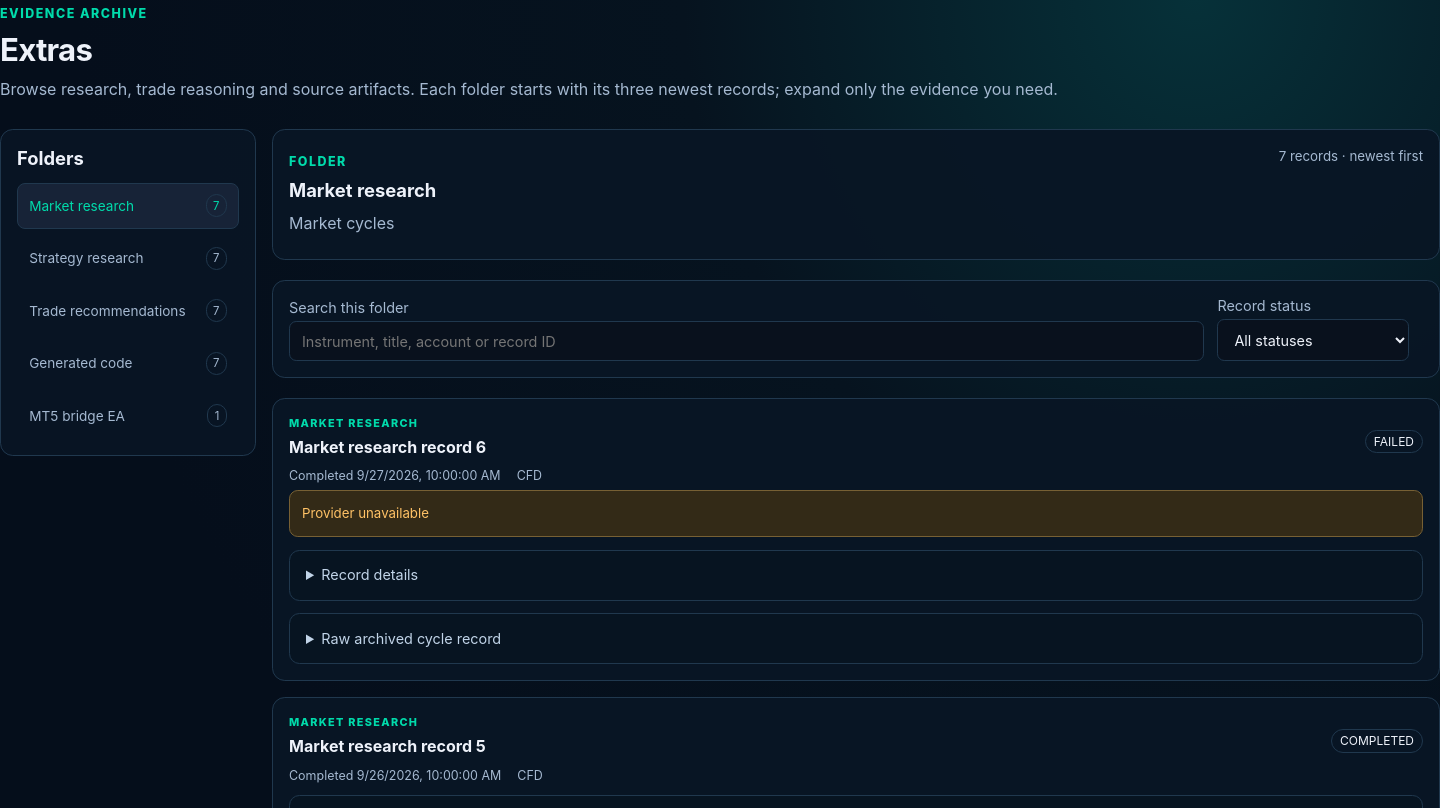
Scenario: filters the full folder, keeps failure reasons visible and distinguishes no matches
Expected: the heading "Market research record 6" is shown, [289,436,486,459]
Expected: the text "Provider unavailable" is shown, [289,490,1423,537]
Type "EURUSD" into the search field labelled "Search this folder" at (746, 341), box [289,321,1204,361]
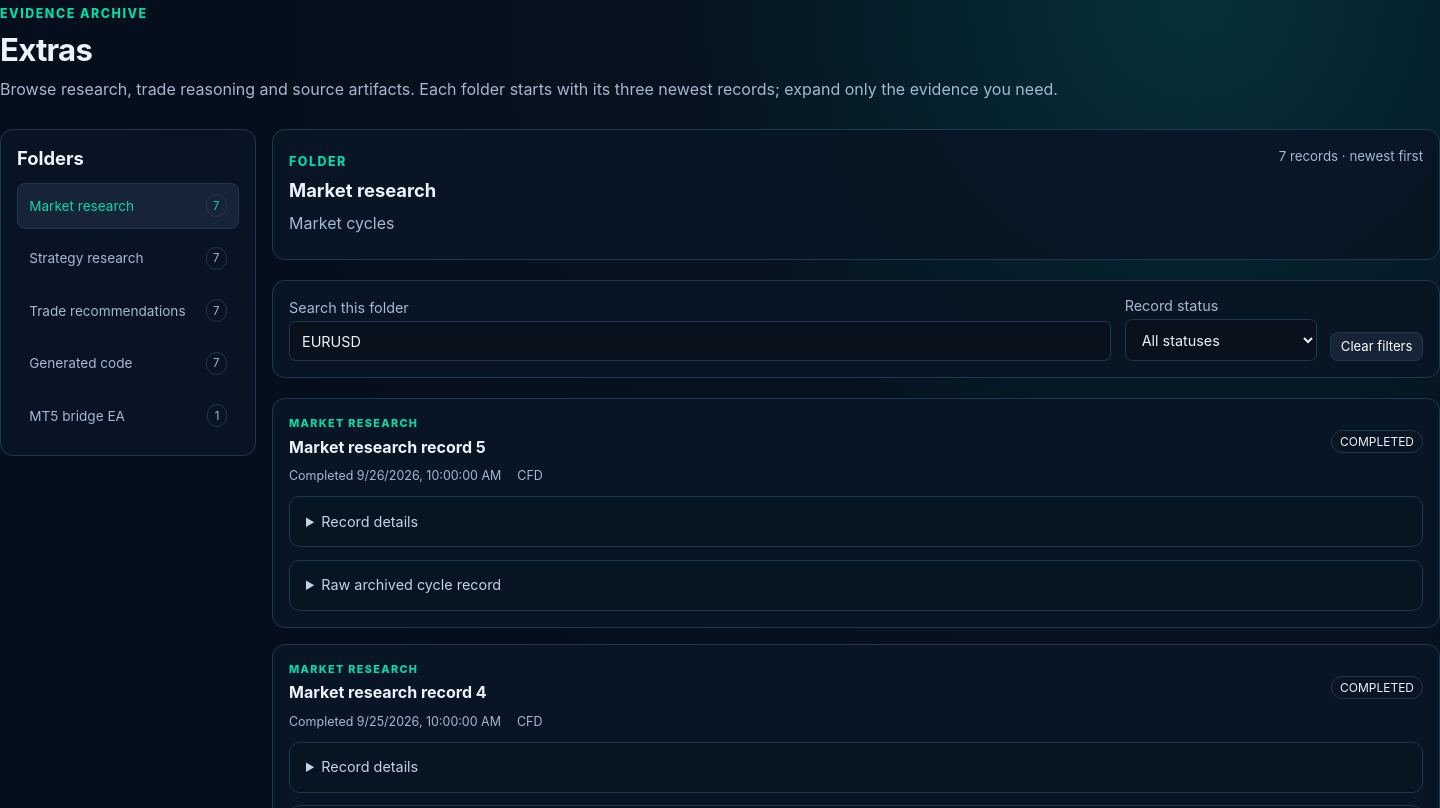
Result: the heading "Market research record 6" is gone
Replace the text in the search field with "XAUUSD" at (700, 341), box [289,321,1111,361]
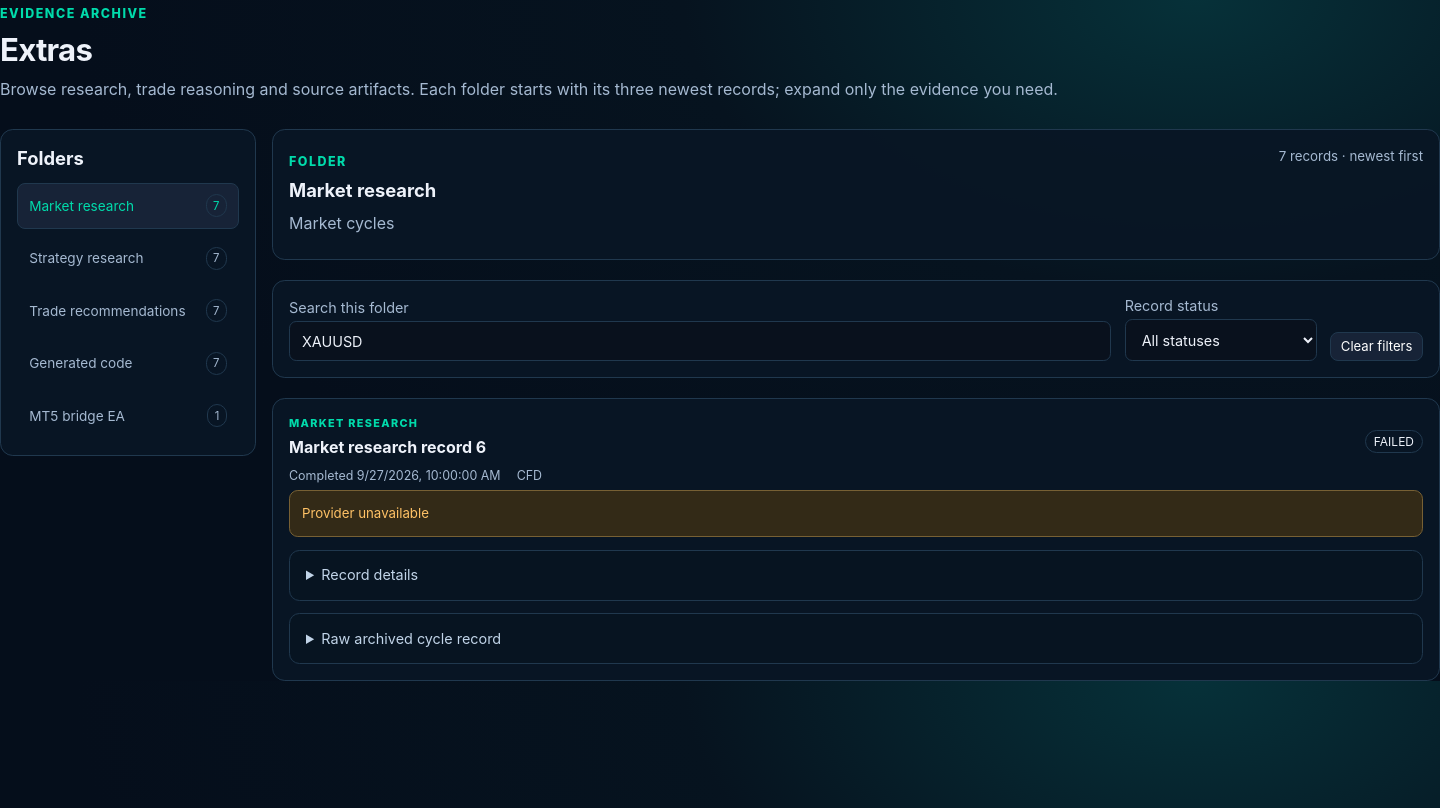
Result: the heading "Market research record 6" is shown at [289,436,486,459]
Select "COMPLETED" in the dropdown labelled "Record status" at (1221, 340), box [1125,319,1317,361]
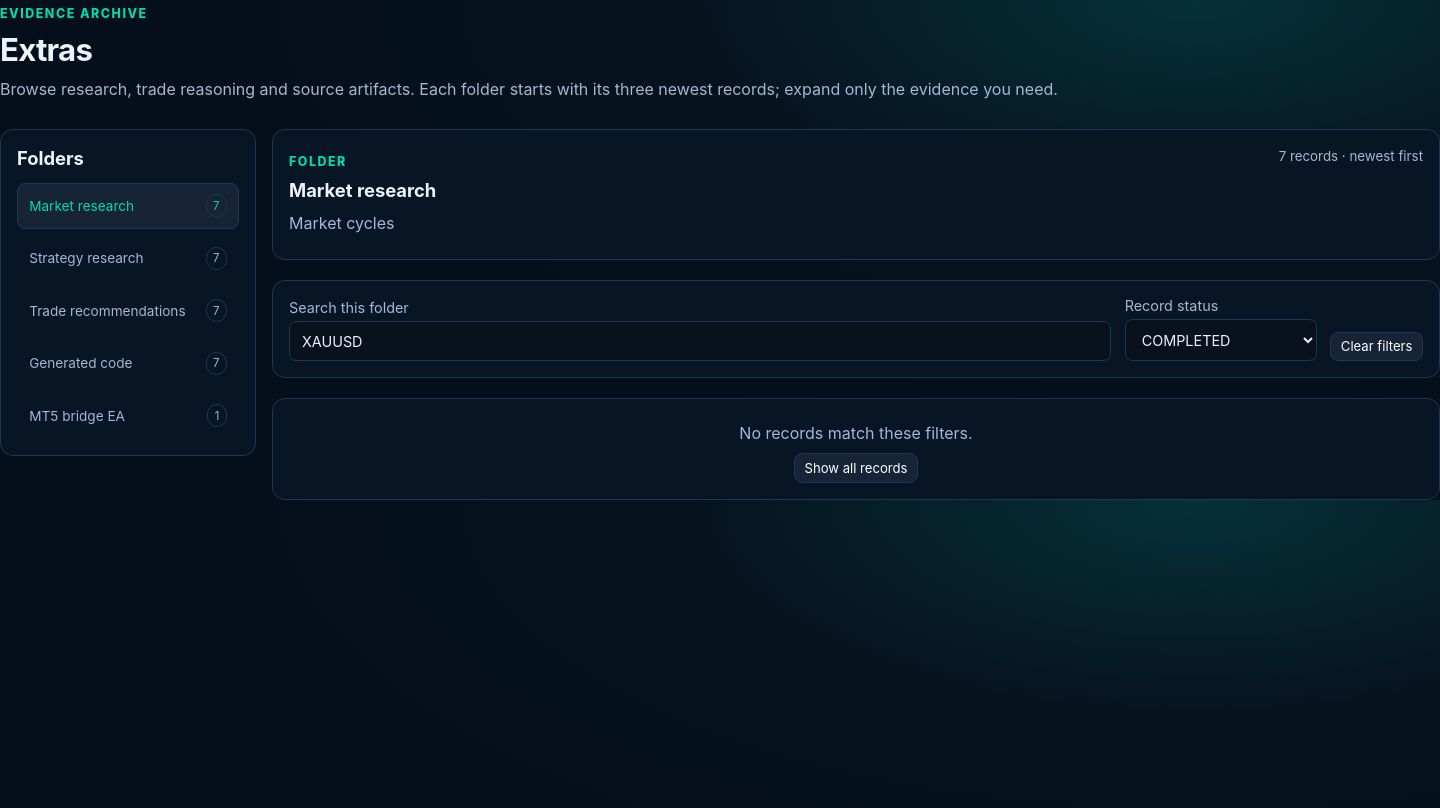
Result: the text "No records match these filters." is shown at [739,423,973,443]
Click the button "Show all records" at (856, 468), box [794,453,918,483]
(page scrolled)
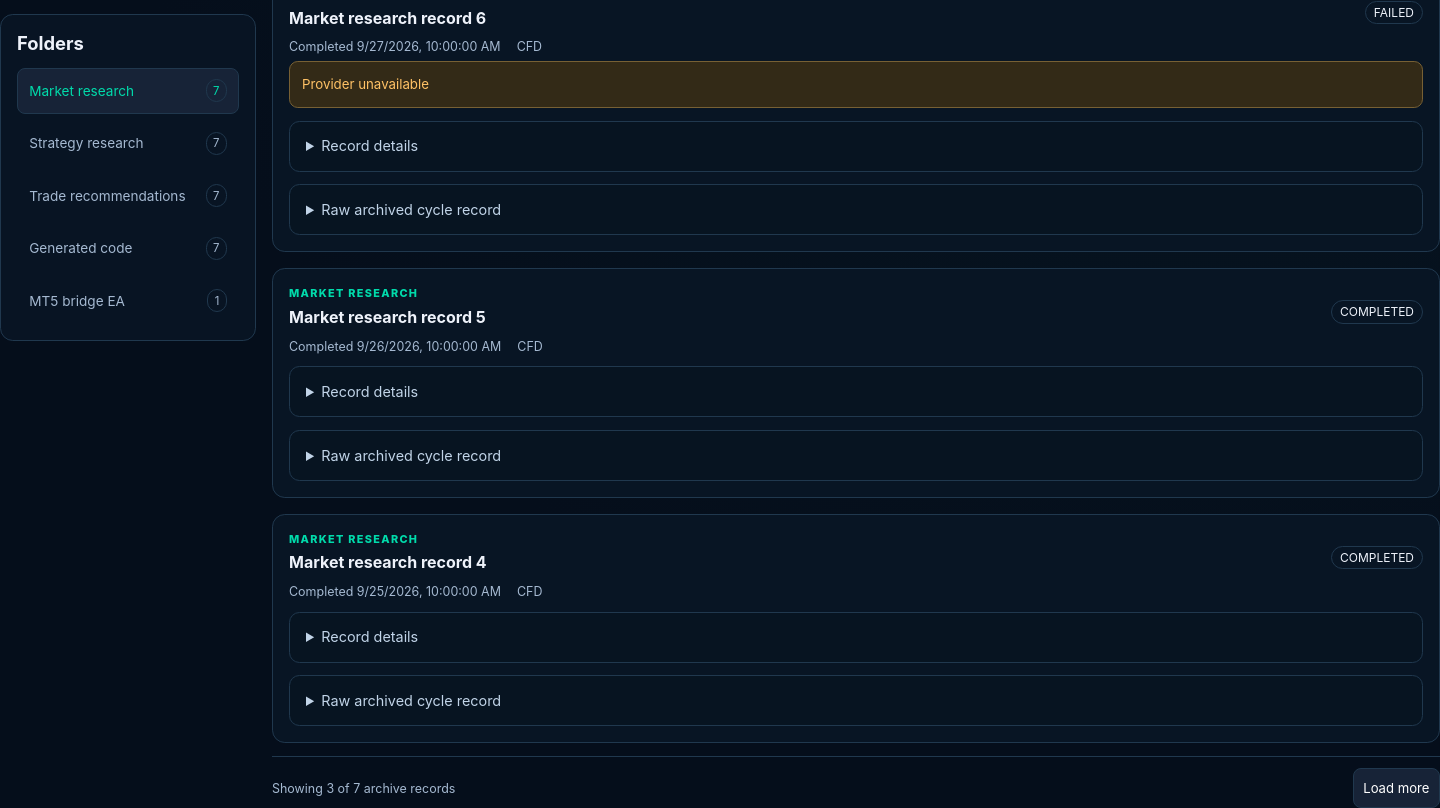
Result: the text "Showing 3 of 7 archive records" is shown at [272,781,455,796]
